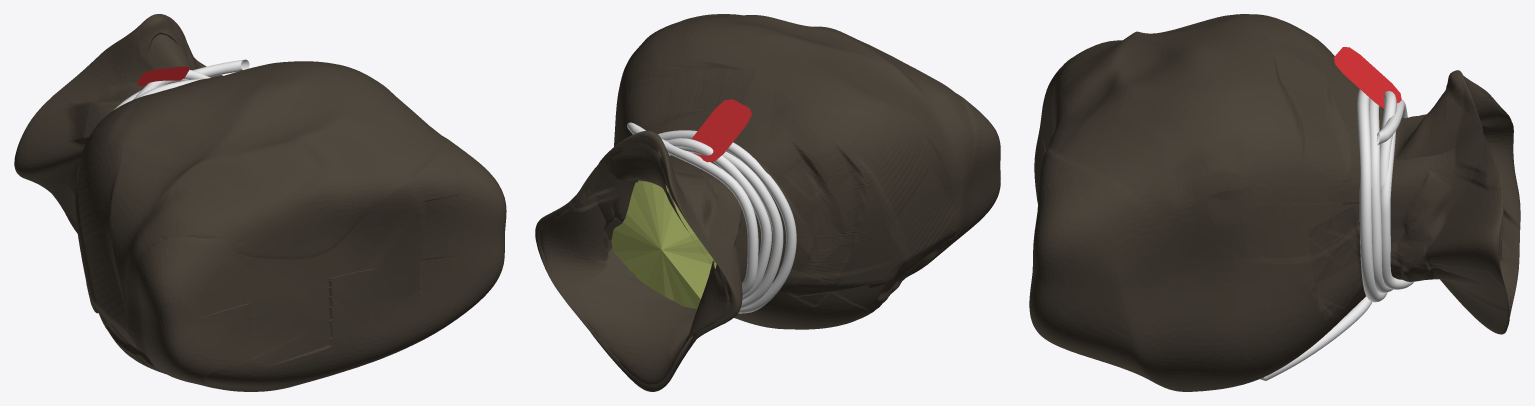
The model's file is birdseed.fbx.
3 views of the same model, side by side, from view 1: azimuth 30°, elevation 25°; view 2: azimuth 150°, elevation 25°; view 3: azimuth 270°, elevation 25° (orthographic). The views are drawn at different scales.
Parts seen in each view (by area): view 1: Cube, NurbsCurve, Plane; view 2: Cube, Cube.002, NurbsCurve, Plane; view 3: Cube, NurbsCurve, Cube.002, Plane.
Boxes of the visible parts, bbox=[...] form: Cube: bbox=[14, 14, 506, 391]; NurbsCurve: bbox=[113, 59, 249, 110]; Plane: bbox=[137, 66, 189, 85]; Cube: bbox=[535, 14, 1000, 391]; Cube.002: bbox=[540, 142, 736, 384]; NurbsCurve: bbox=[627, 122, 796, 313]; Plane: bbox=[692, 99, 751, 162]; Cube: bbox=[1029, 14, 1511, 391]; NurbsCurve: bbox=[1259, 89, 1413, 380]; Cube.002: bbox=[1325, 81, 1520, 316]; Plane: bbox=[1334, 47, 1401, 108].
Bounding box in the file's own units: 110 × 86.13 × 124.
